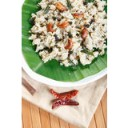venpongal: (32, 3, 105, 63)
